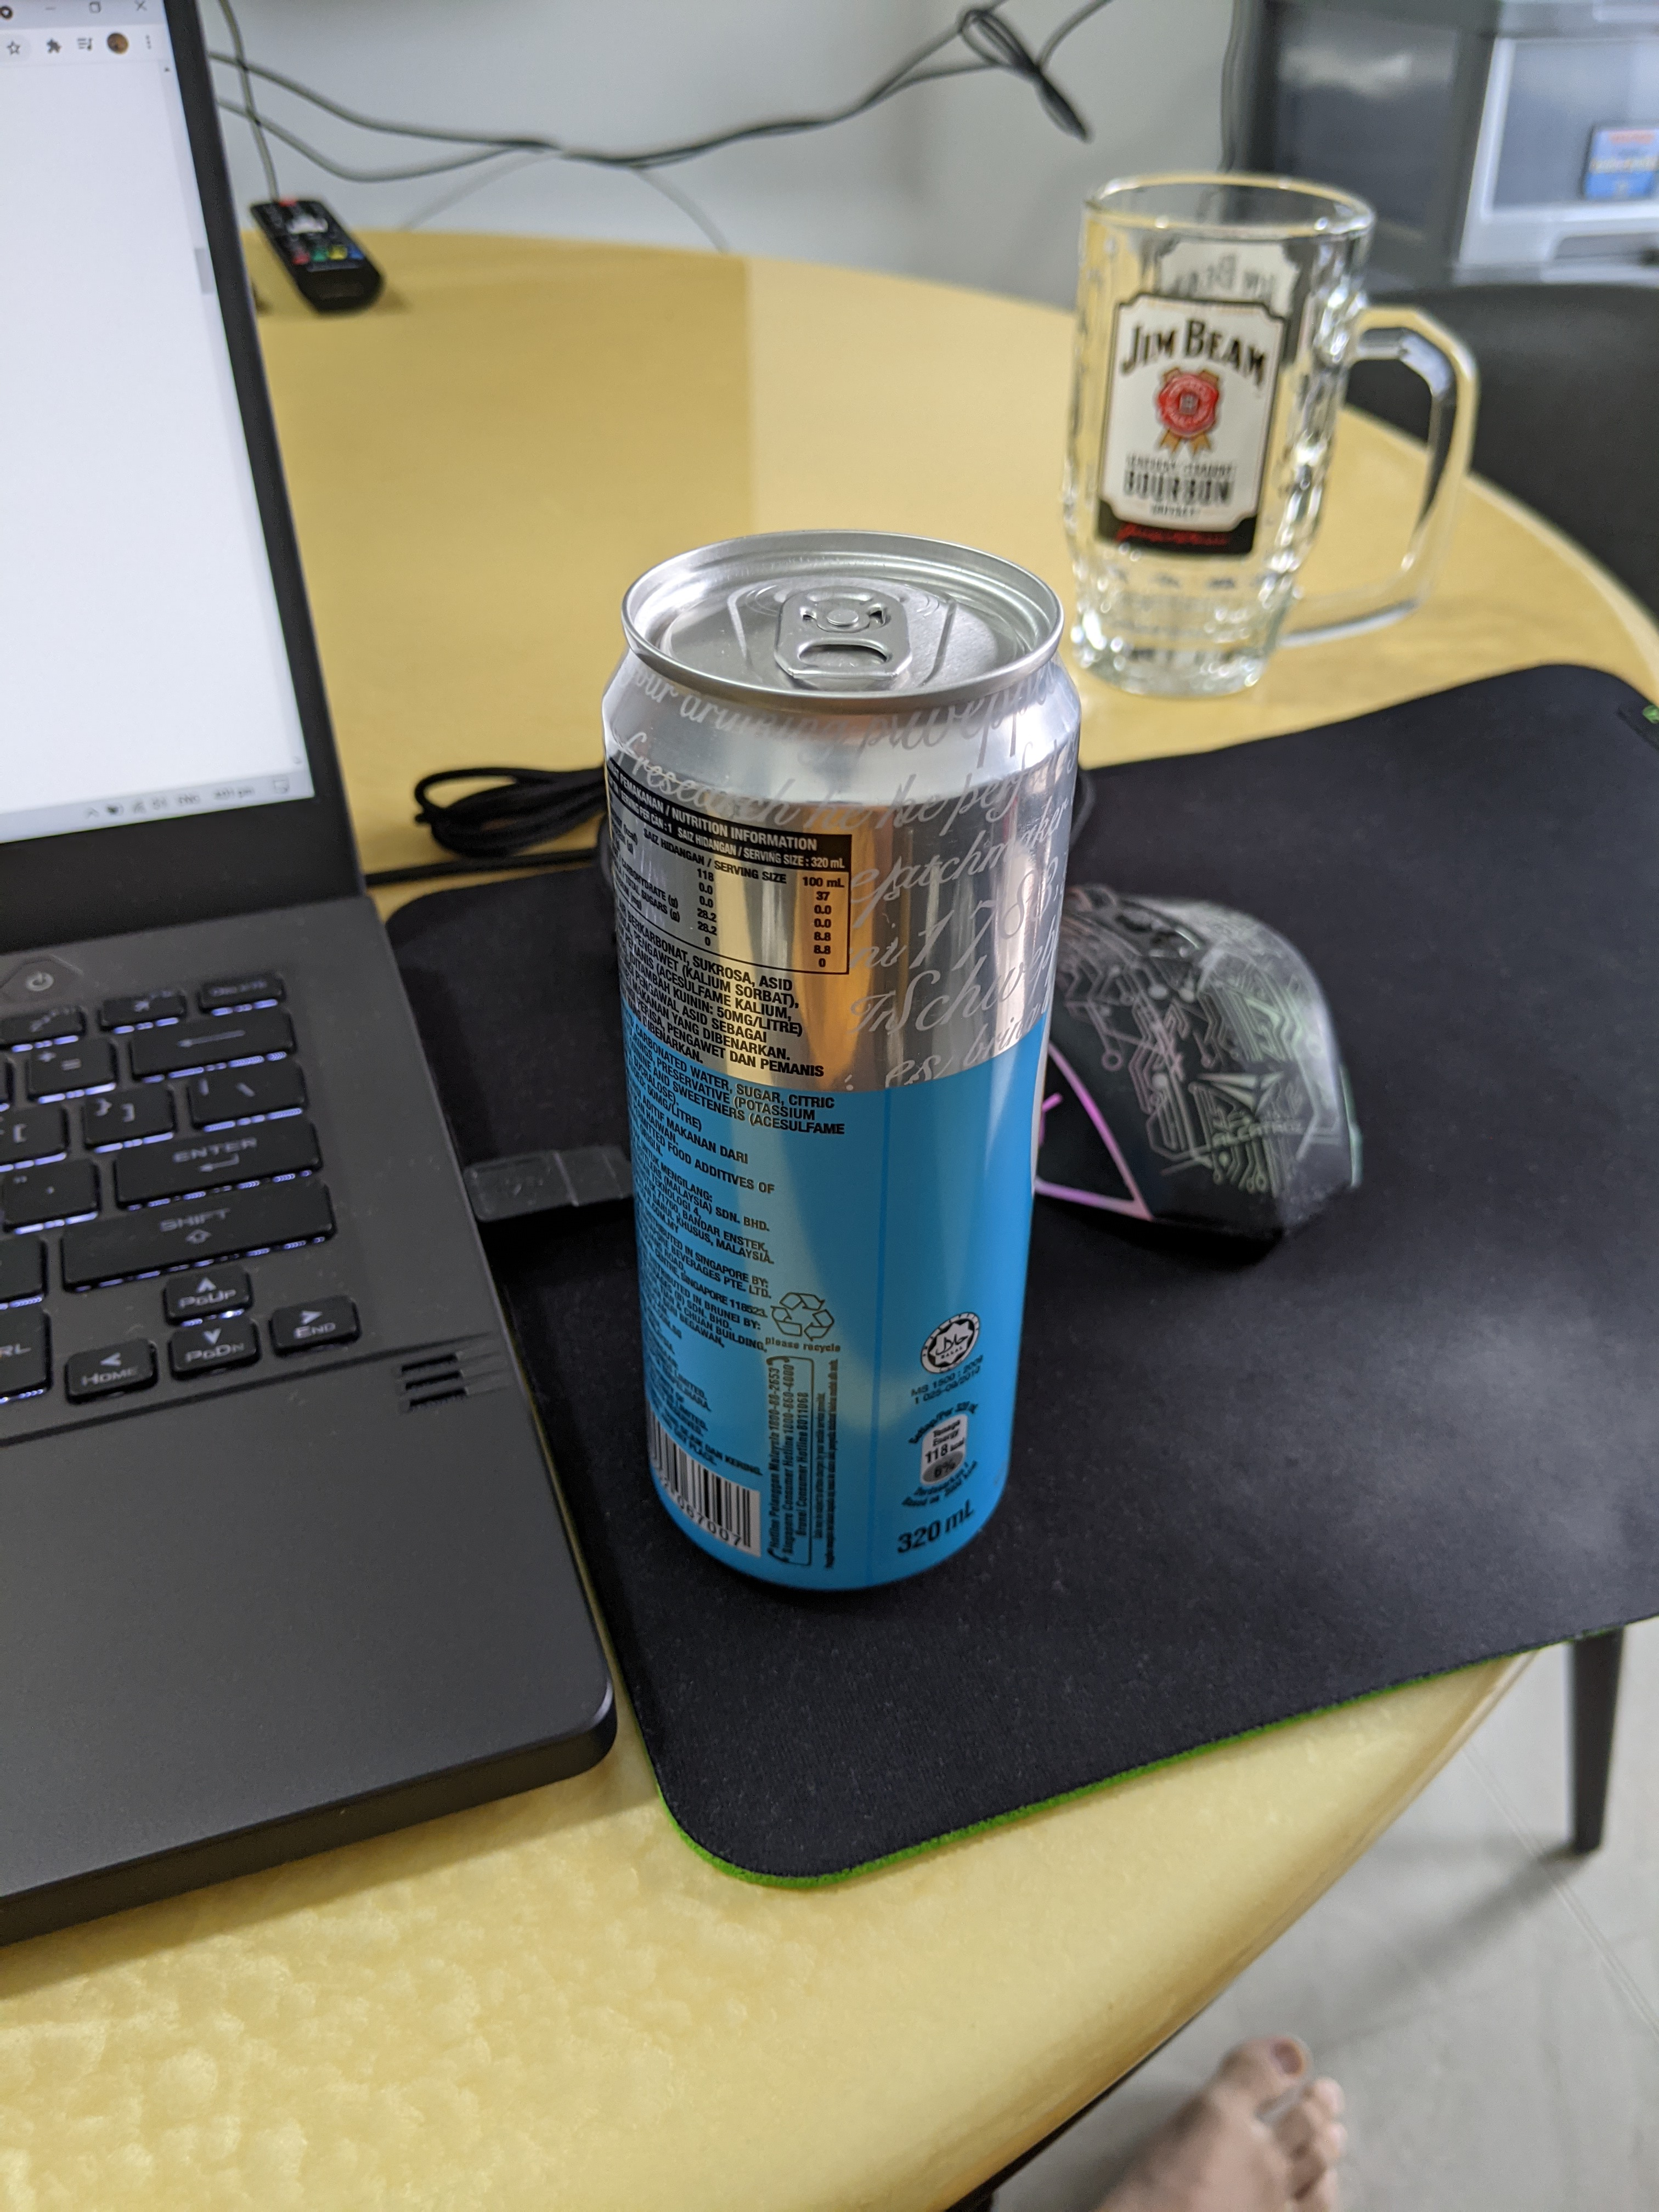schweppes drink can bitter lemon: (561, 495, 1119, 1635)
